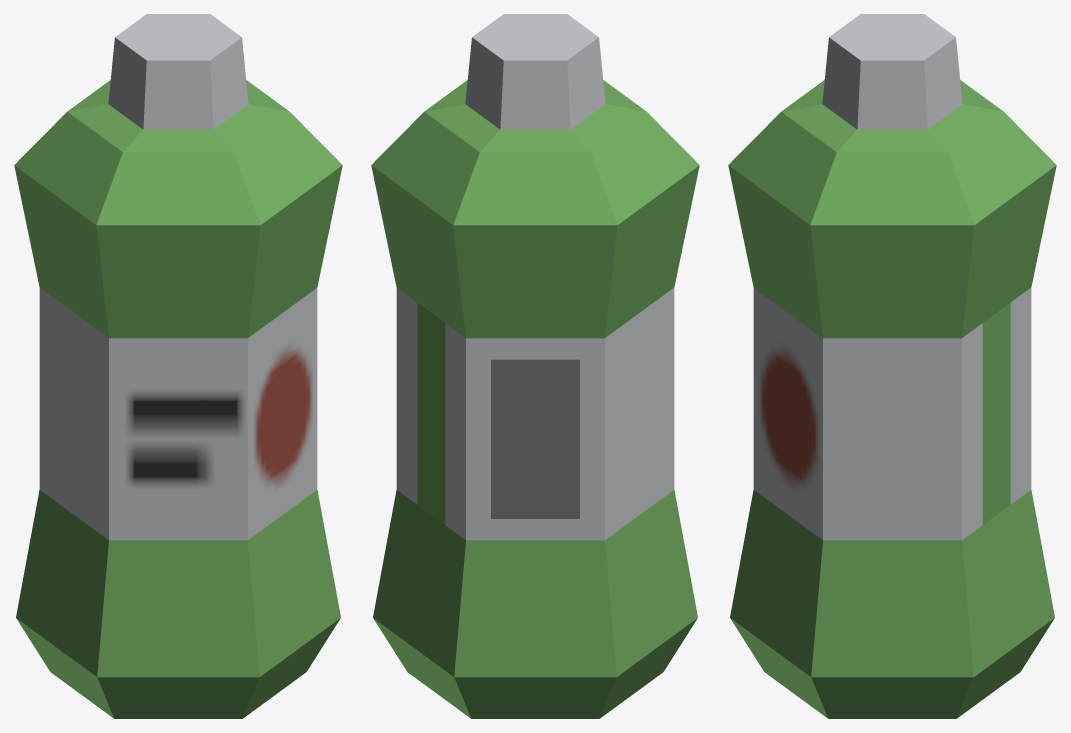
The model's file is SM_Item_Drink_03.fbx.
3 renders of one model, left to right at view 1: azimuth 30°, elevation 25°; view 2: azimuth 150°, elevation 25°; view 3: azimuth 270°, elevation 25°, orthographic.
Parts seen in each view (by area): view 1: SM_Item_Drink_03; view 2: SM_Item_Drink_03; view 3: SM_Item_Drink_03.
Boxes of the visible parts, x1,y1,x2,y2 form: SM_Item_Drink_03: [14, 14, 342, 718]; SM_Item_Drink_03: [371, 14, 699, 718]; SM_Item_Drink_03: [728, 14, 1056, 718].
Size of the model in its own units: 10.52 by 25.89 by 12.14.
